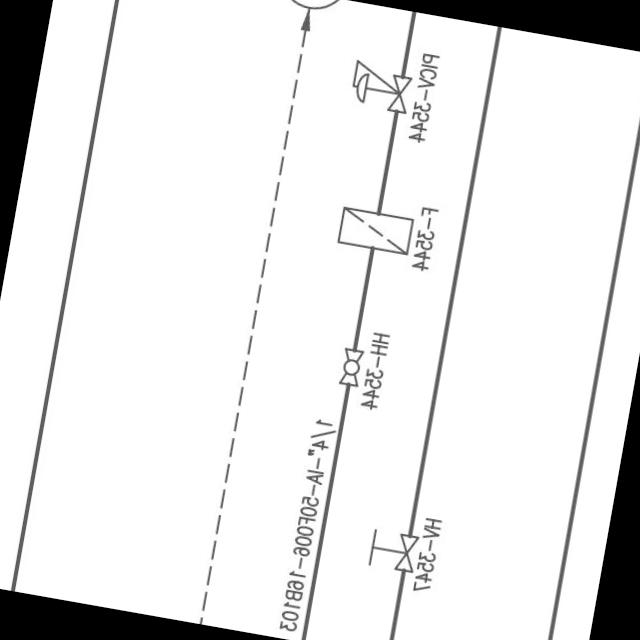BV2: (330, 341, 368, 391)
F2: (328, 200, 416, 260)
HVWT: (358, 519, 416, 579)
PCV: (342, 52, 416, 121)
